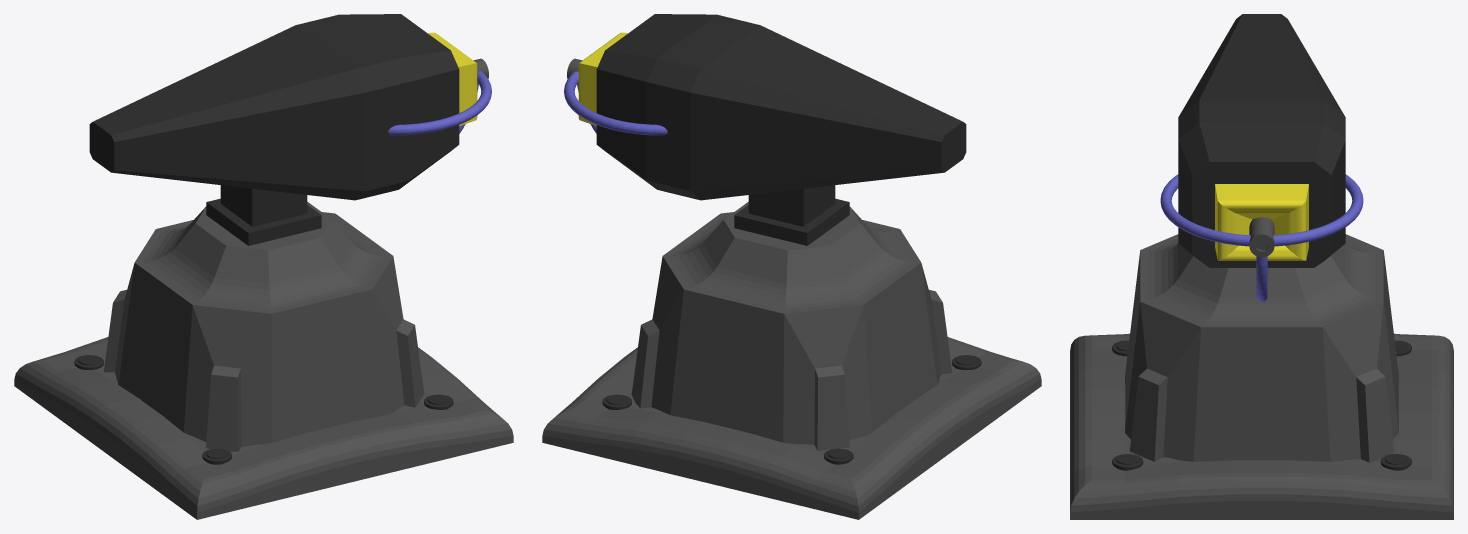
File: Turret3.fbx
The picture shows the model from 3 angles, left to right: view 1: azimuth 30°, elevation 25°; view 2: azimuth 150°, elevation 25°; view 3: azimuth 270°, elevation 25°; orthographic projection. The views are drawn at different scales.
Parts seen in each view (by area): view 1: Cube, Cube.002, Plane, Cube.001, Torus.001, Cube.003; view 2: Cube, Cube.002, Plane, Cube.001, Torus.001, Cube.003; view 3: Cube, Plane, Cube.002, Cube.003, Torus.001, Cylinder.004.
Part boxes in pixels (x1,y1,x2,y2): Cube: [104, 202, 424, 451]; Cube.002: [89, 14, 459, 200]; Plane: [14, 337, 513, 519]; Cube.001: [206, 185, 321, 245]; Torus.001: [388, 71, 491, 135]; Cube.003: [428, 32, 477, 125]; Cube: [631, 202, 952, 450]; Cube.002: [596, 14, 966, 200]; Plane: [542, 337, 1041, 519]; Cube.001: [734, 185, 849, 245]; Torus.001: [564, 71, 667, 135]; Cube.003: [578, 32, 627, 125]; Cube: [1125, 234, 1398, 462]; Plane: [1070, 333, 1453, 519]; Cube.002: [1178, 14, 1345, 267]; Cube.003: [1215, 184, 1308, 260]; Torus.001: [1160, 174, 1363, 301]; Cylinder.004: [1249, 217, 1274, 257].
Bounding box in the file's own units: 241 × 213 × 200.
